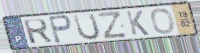K: (124, 10, 151, 37)
O: (150, 7, 176, 35)
P: (47, 14, 74, 45)
R: (22, 18, 54, 46)
U: (72, 12, 102, 42)
Z: (97, 10, 129, 41)
